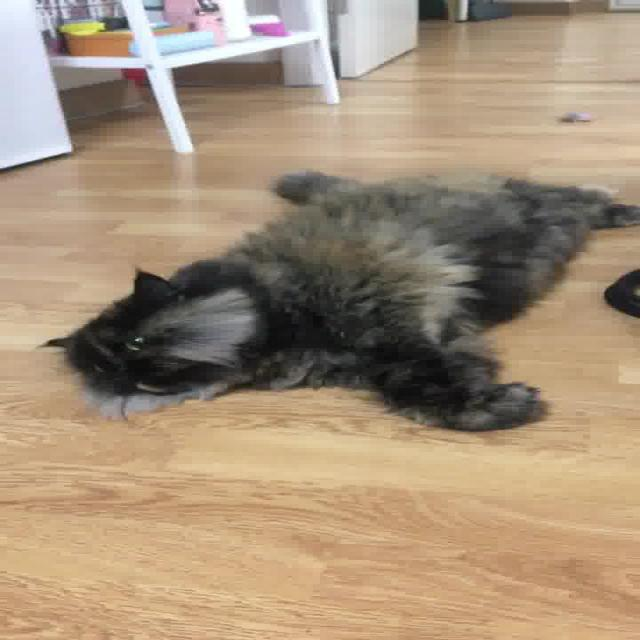cat: (39, 166, 640, 432)
